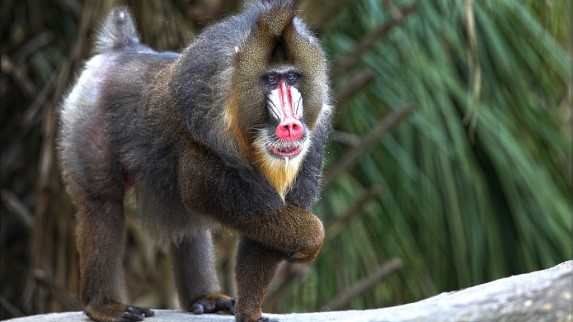Mandrill: (57, 8, 326, 308)
